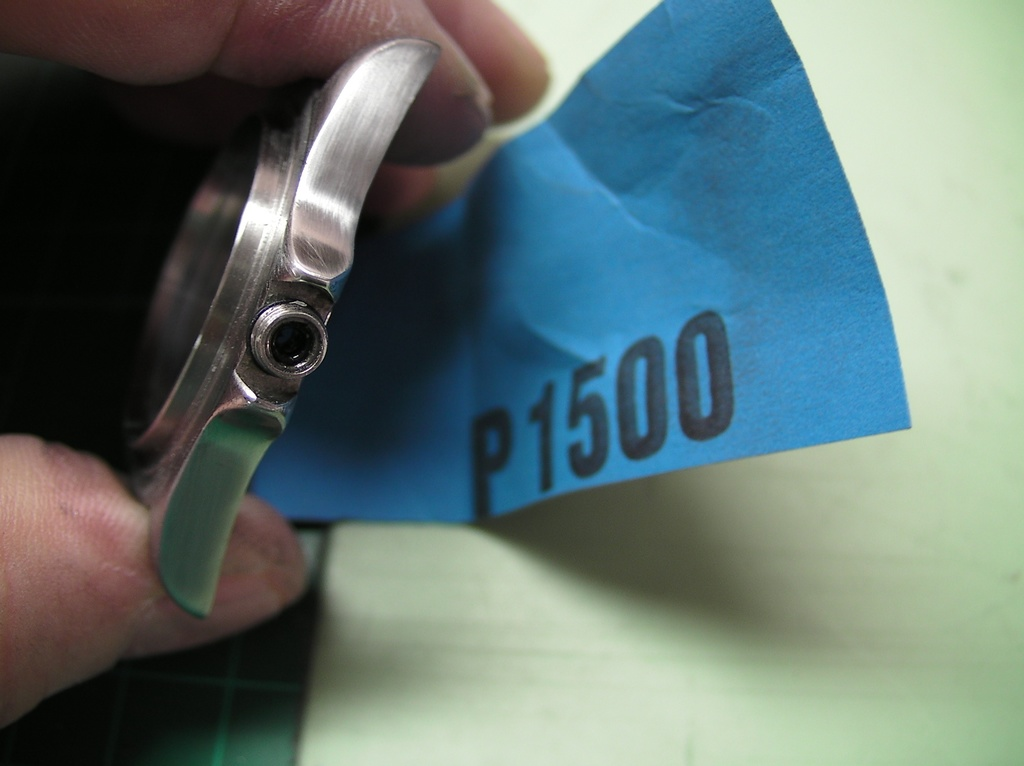Human_hand: (26, 24, 525, 648)
